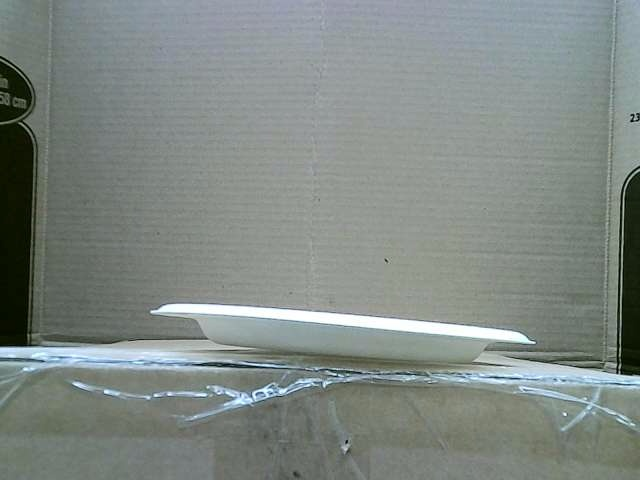Plate: (149, 302, 537, 363)
